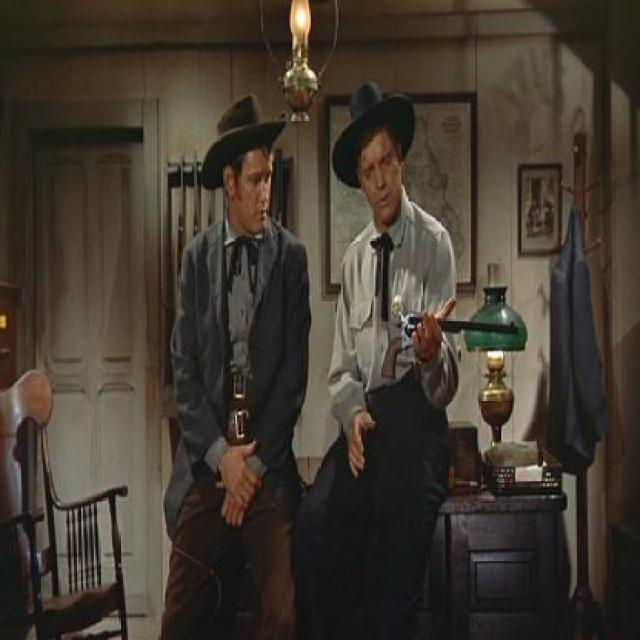gun: (379, 303, 536, 389)
